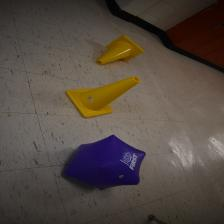cone: (65, 76, 141, 119), (95, 34, 146, 65)
cube: (62, 134, 146, 190)
